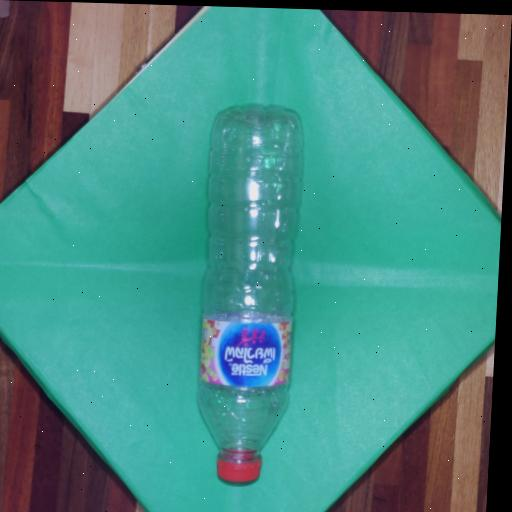bottle: (162, 99, 329, 509)
